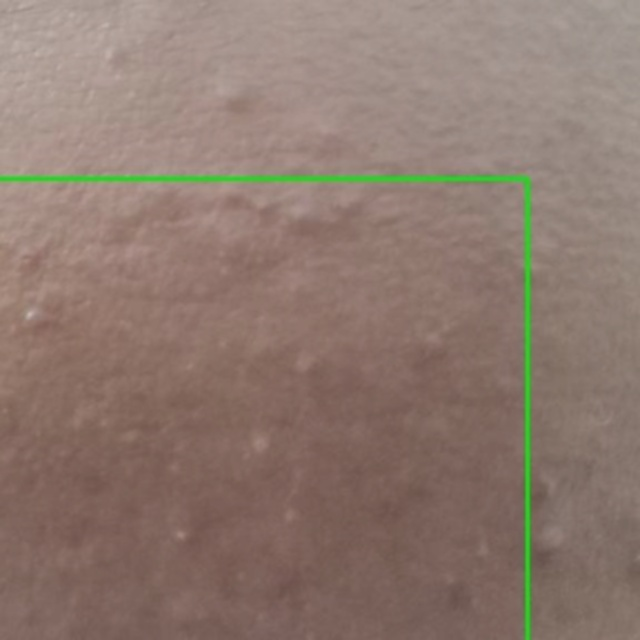Eczema: (0, 178, 527, 639)
